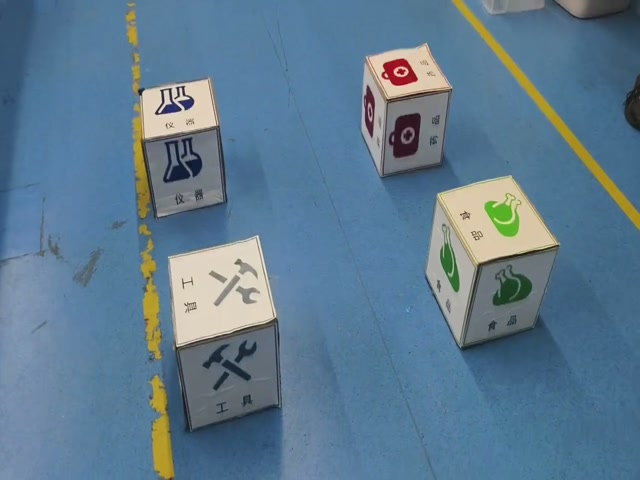Cube_food: (432, 169, 562, 267)
Cube_ins: (133, 78, 224, 145)
Cube_medicine: (367, 44, 452, 101)
Cube_tool: (164, 233, 277, 353)
